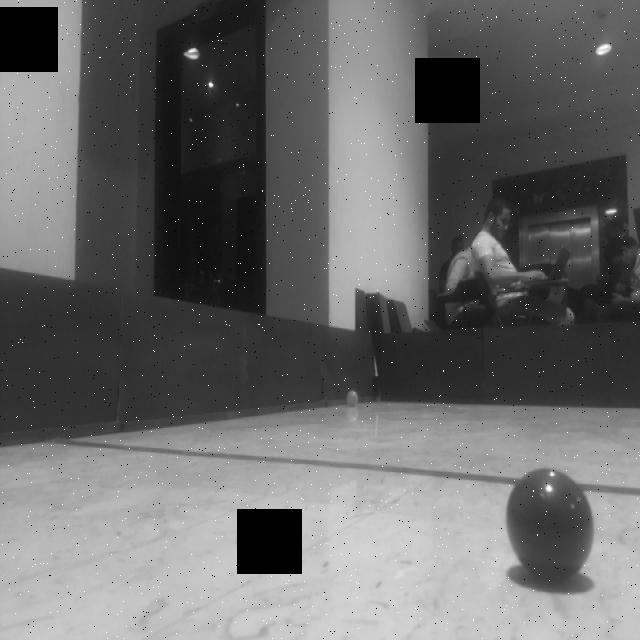ball: (501, 464, 596, 592), (342, 385, 362, 408)
